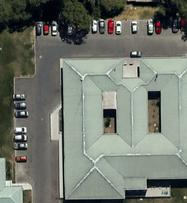parkingspot: (34, 20, 187, 38), (13, 76, 32, 185)
